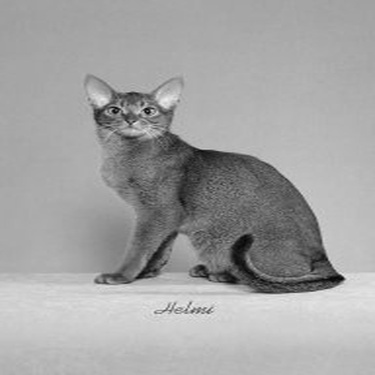cat: (82, 71, 346, 294)
